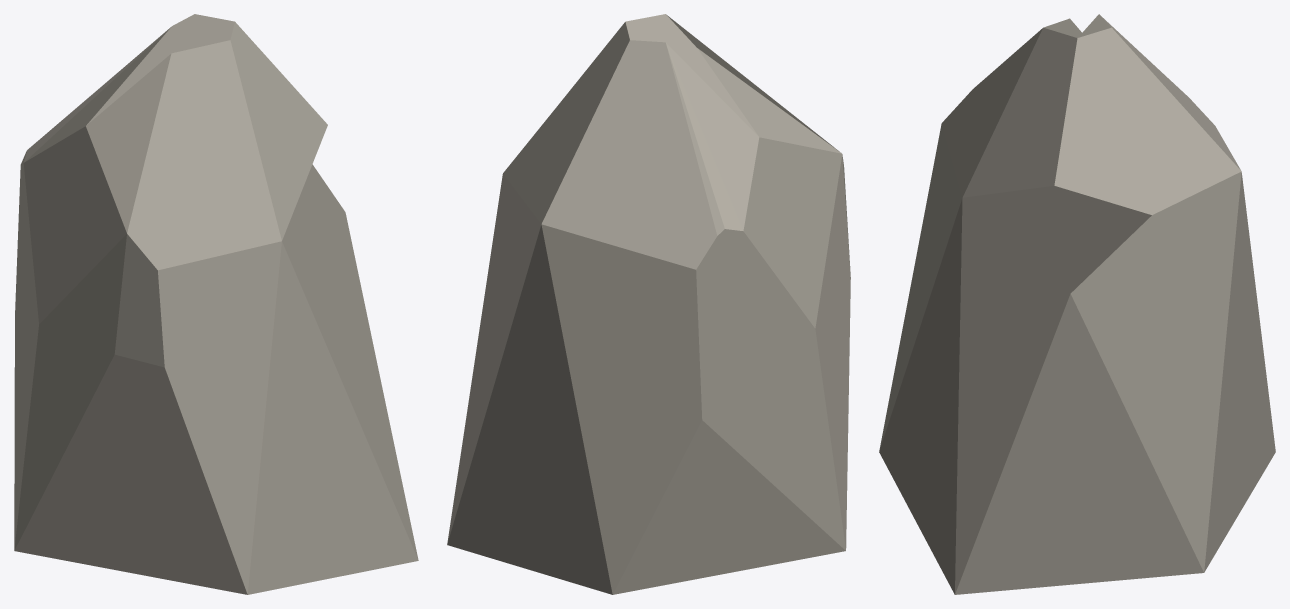
Rendered from Rock_1.fbx.
3 renders of one model, left to right at view 1: azimuth 30°, elevation 25°; view 2: azimuth 150°, elevation 25°; view 3: azimuth 270°, elevation 25°, orthographic. The views are drawn at different scales.
Parts seen in each view (by area): view 1: Icosphere; view 2: Icosphere; view 3: Icosphere.
Part boxes in pixels (<box>): Icosphere: <box>14,14,418,594</box>; Icosphere: <box>447,14,850,594</box>; Icosphere: <box>879,14,1275,594</box>.
Size of the model in its own units: 3.24 by 4.74 by 3.4.
